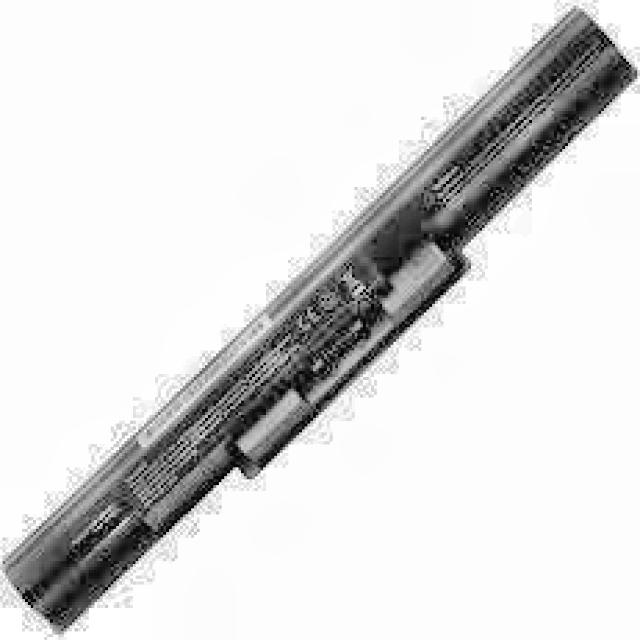Battery: (8, 9, 638, 631)
